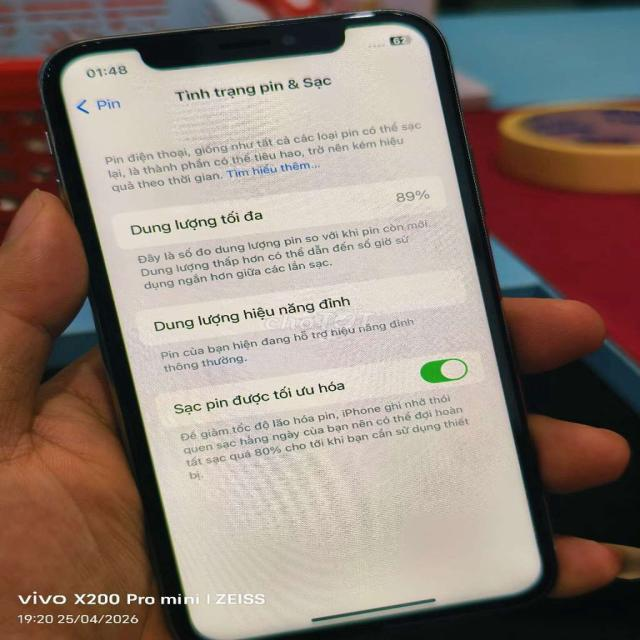scratch: (60, 35, 126, 53), (366, 1, 414, 24), (34, 58, 62, 82)
